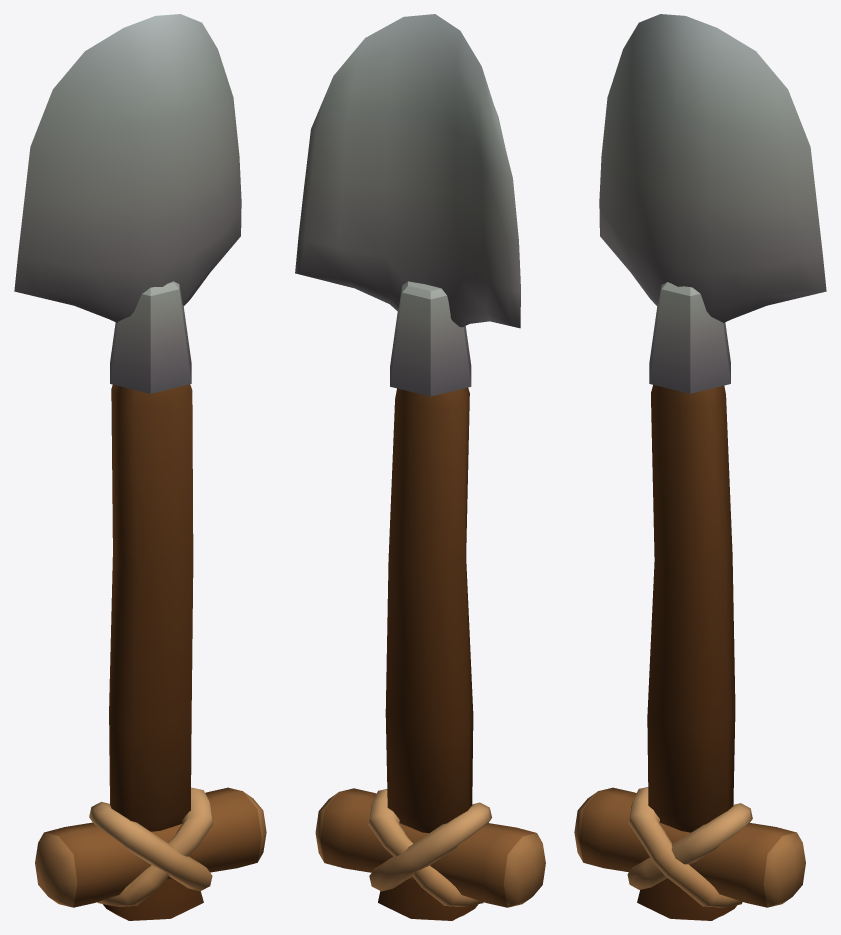
File: Shovel_02.glb
3 views of the same model, side by side, from view 1: azimuth 30°, elevation 25°; view 2: azimuth 150°, elevation 25°; view 3: azimuth 330°, elevation 25° (orthographic).
Parts seen in each view (by area): view 1: Shovel_02; view 2: Shovel_02; view 3: Shovel_02.
Part boxes in pixels (<box>): Shovel_02: <box>14,14,266,920</box>; Shovel_02: <box>295,14,545,920</box>; Shovel_02: <box>574,14,826,920</box>.
Bounding box in the file's own units: 0.3004 × 1.14 × 0.1224.
1 material, 1 textured.
